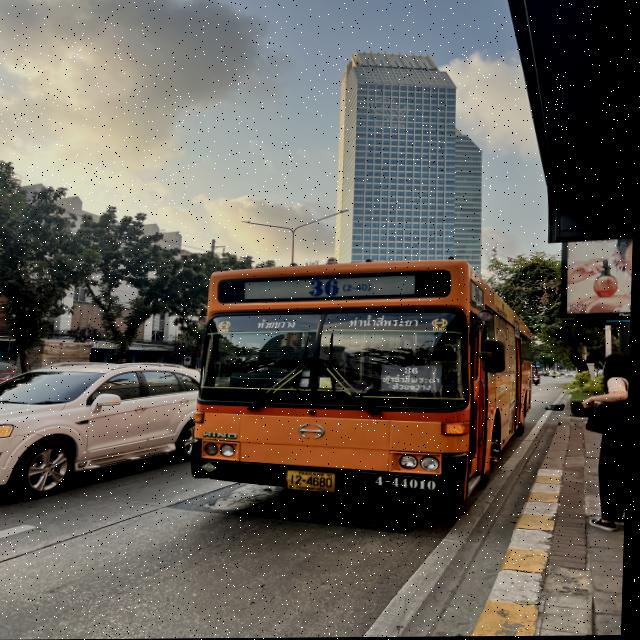BMTA-bus: (193, 260, 538, 508)
Bus-Line-Number: (300, 273, 381, 300)
Destination-Sign-Normal: (382, 363, 442, 395)
